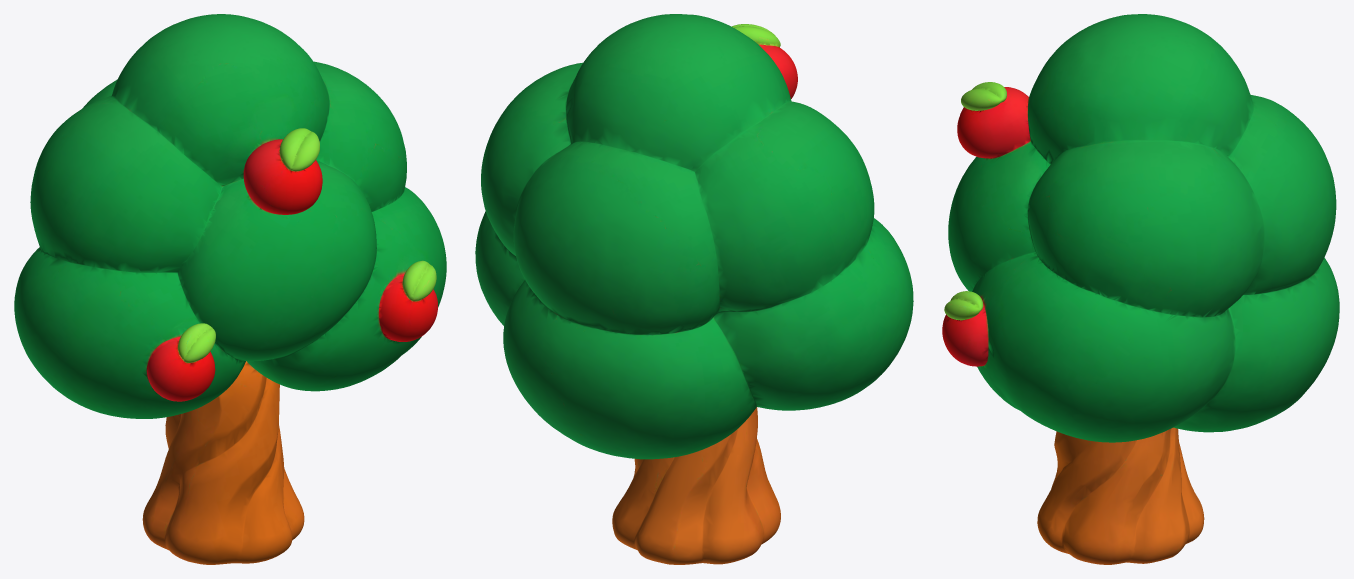
File: fruit-tree.glb
3 renders of one model, left to right at view 1: azimuth 30°, elevation 25°; view 2: azimuth 150°, elevation 25°; view 3: azimuth 270°, elevation 25°, orthographic. The views are drawn at different scales.
Bounding box in the file's own units: 1.55 × 1.9 × 1.33.
Materials: 1 (1 with a texture image).
